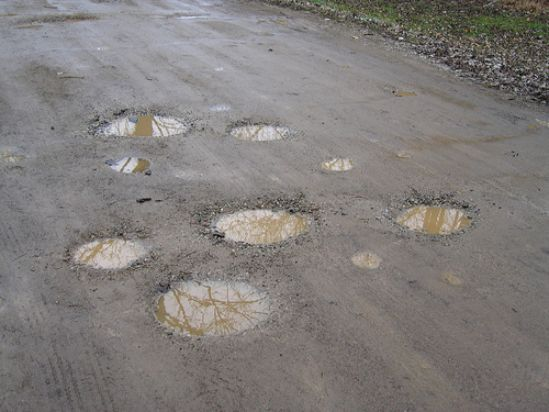pothole: (148, 271, 284, 341), (197, 197, 321, 246), (60, 229, 155, 273), (388, 195, 477, 238), (93, 108, 192, 142), (224, 115, 297, 142), (103, 154, 155, 180), (314, 154, 356, 176)
